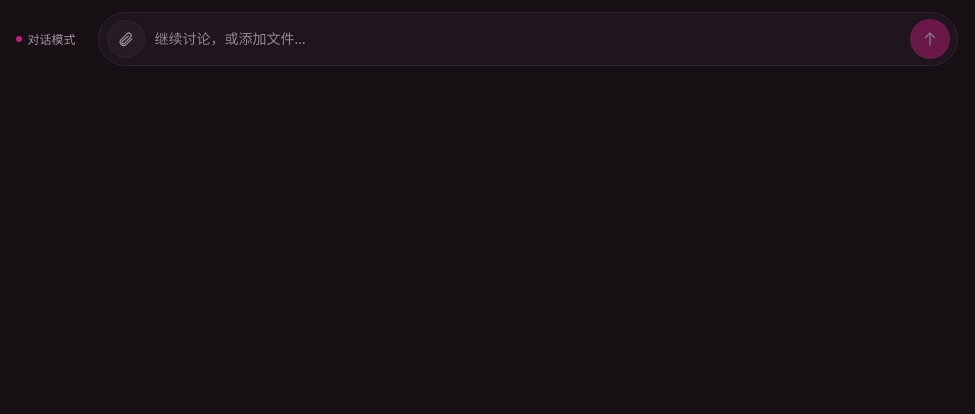
Test: 契约 5 · 发送确认（入口①） › 响应丢失进入 needs-confirm：不自动恢复草稿，入口①显示「正在确认」，消息保留
Step 1. Type "正在确认的消息" into the text box with placeholder "继续讨论，或添加文件…" → (527, 39), box 150,26 -> 904,52
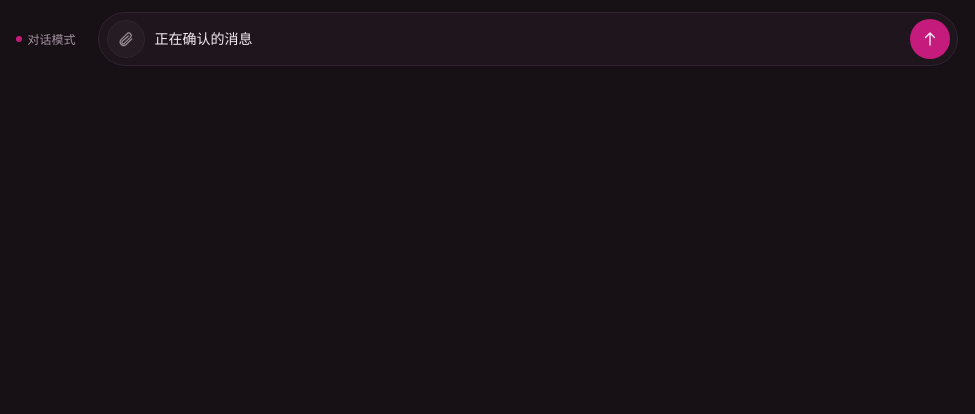
Step 2. Click the button with class "send-btn" → (930, 39), box 910,19 -> 950,59
Wait 21000 ms
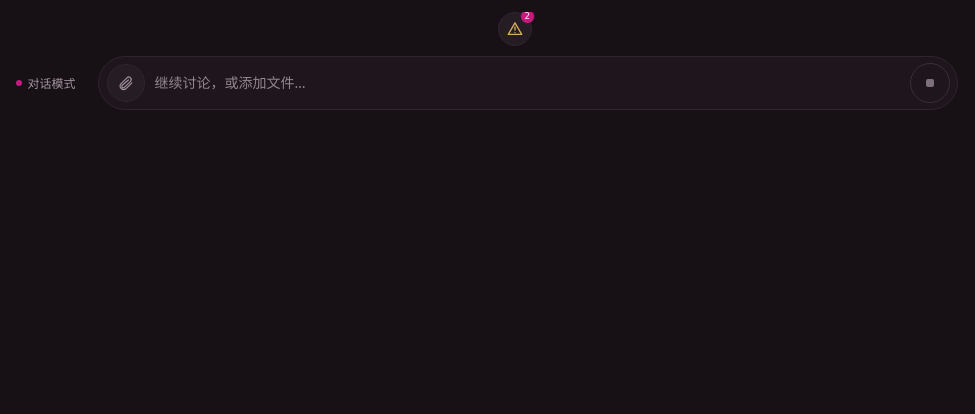
Expected: the text box with placeholder "继续讨论，或添加文件…" is empty, 150,70 -> 904,96
Step 3. Click the button "2" → (515, 29), box 498,12 -> 532,46
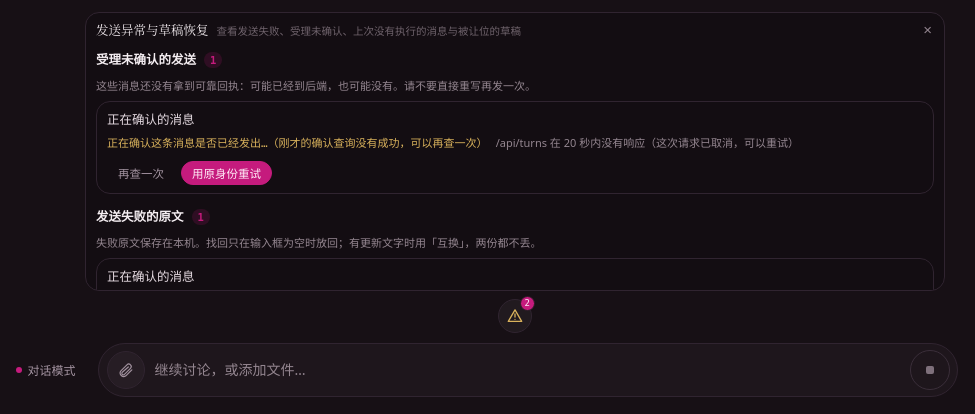
Expected: the element with class "send-issues" is shown, 96,49 -> 934,290
Expected: the element with class "send-issues" shows "正在确认这条消息是否已经发出…", 107,137 -> 488,150
Expected: the element with class "send-issues" shows "可以再查一次", 107,137 -> 488,150
